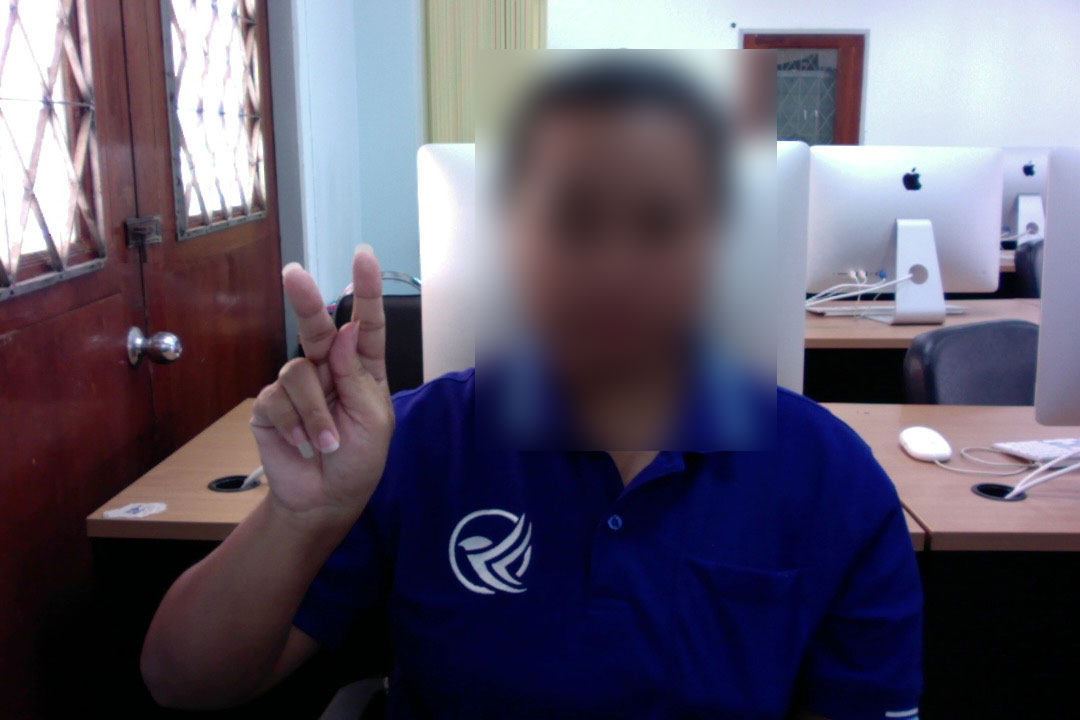ko: (242, 237, 400, 514)
